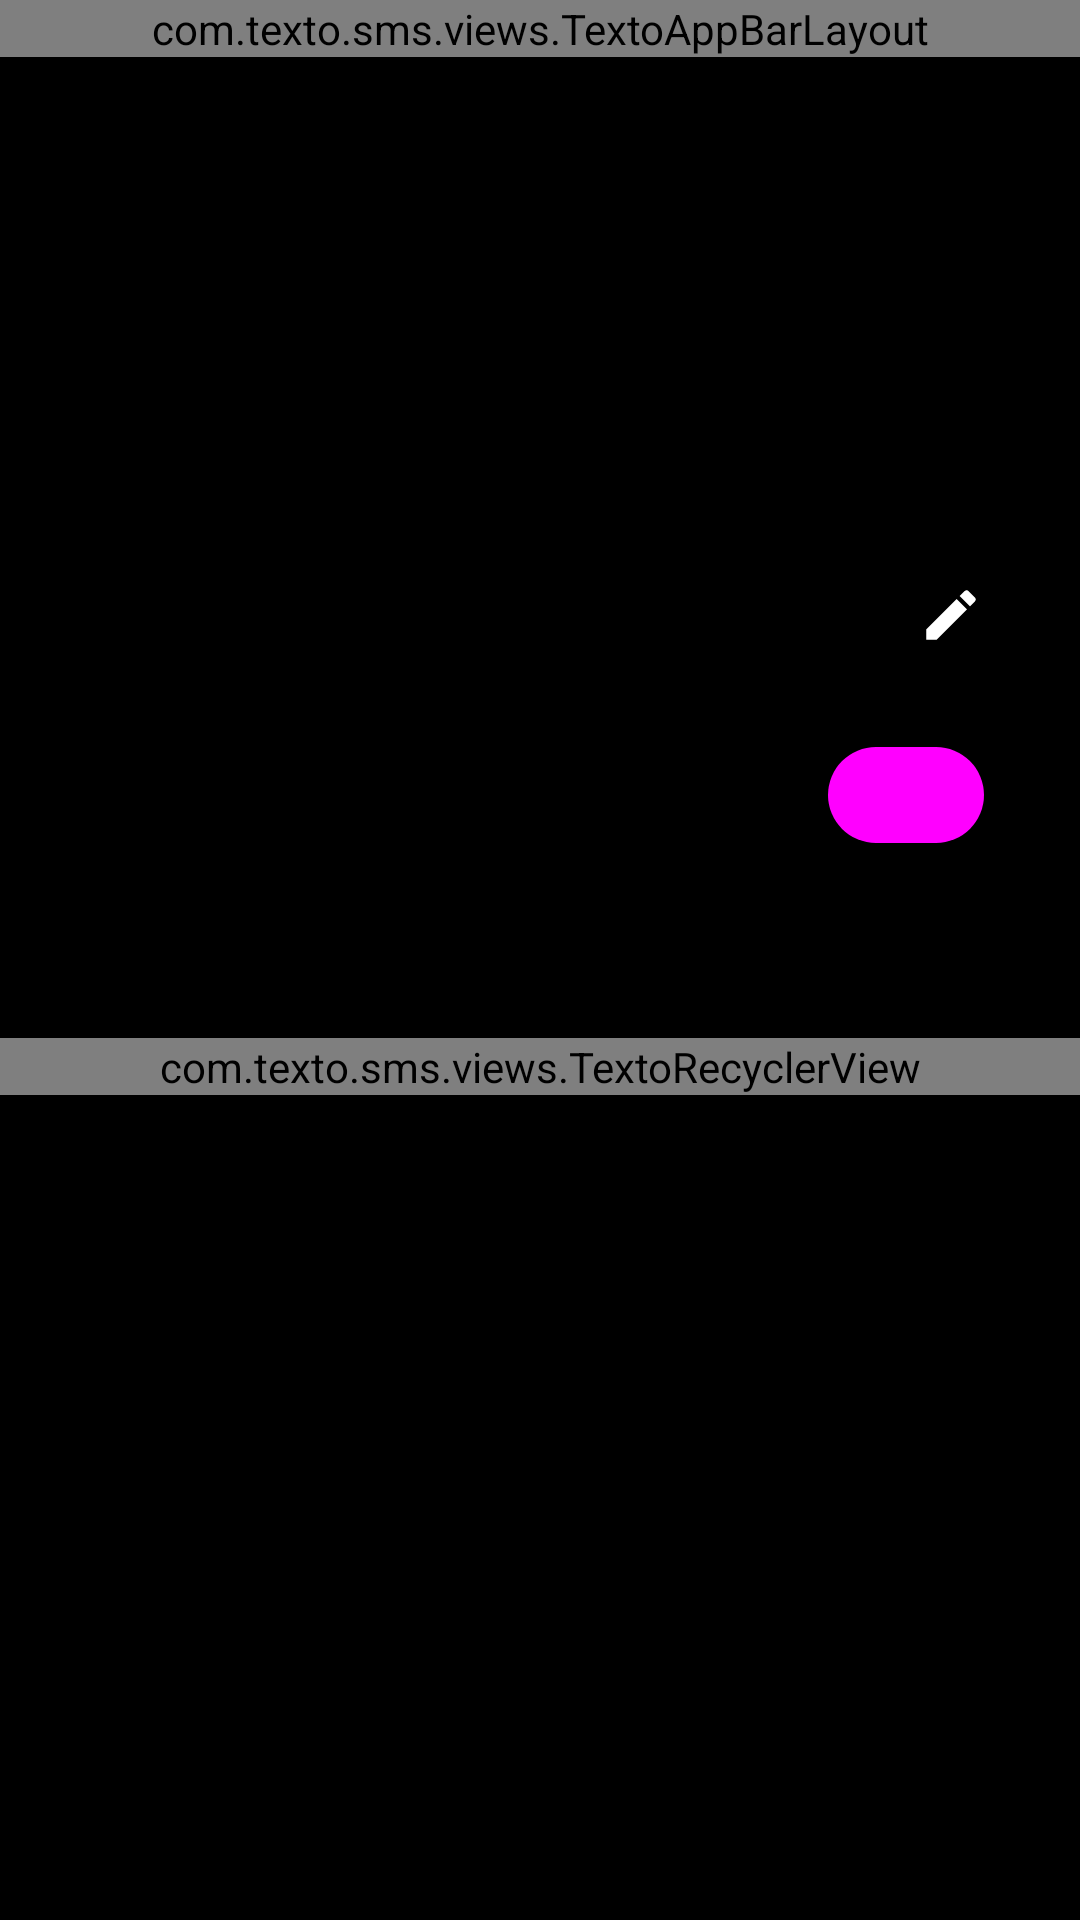

Named icons in this screenshot (1080*1920) and their bounding boxes, (x1,y1,x2,y2):
pencil: (926,590,976,640)
